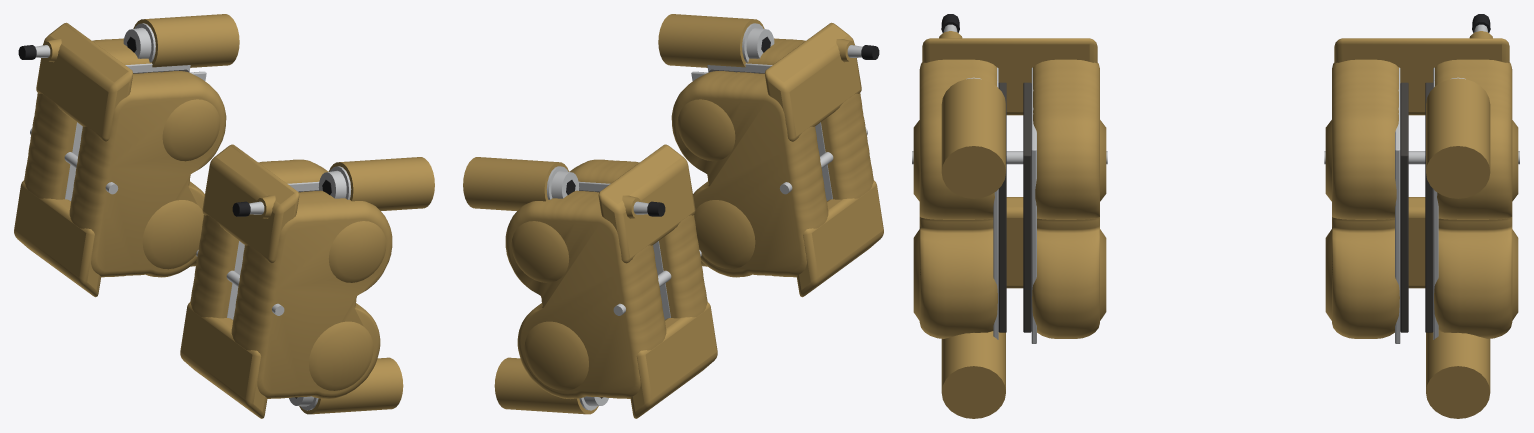
Rendered from lobed.glb.
3 views of the same model, side by side, from view 1: azimuth 30°, elevation 25°; view 2: azimuth 150°, elevation 25°; view 3: azimuth 270°, elevation 25° (orthographic). The views are drawn at different scales.
Visible parts, largest first — view 1: caliper_front_lobed; view 2: caliper_front_lobed; view 3: caliper_front_lobed.
Boxes of the visible parts, box(x1,y1,x2,y2) form: caliper_front_lobed: box(14, 14, 434, 418); caliper_front_lobed: box(463, 14, 883, 418); caliper_front_lobed: box(912, 14, 1519, 418).
Bounding box in the file's own units: 0.1108 × 0.1354 × 0.236.
